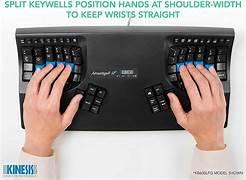keyboard: (15, 25, 234, 131)
